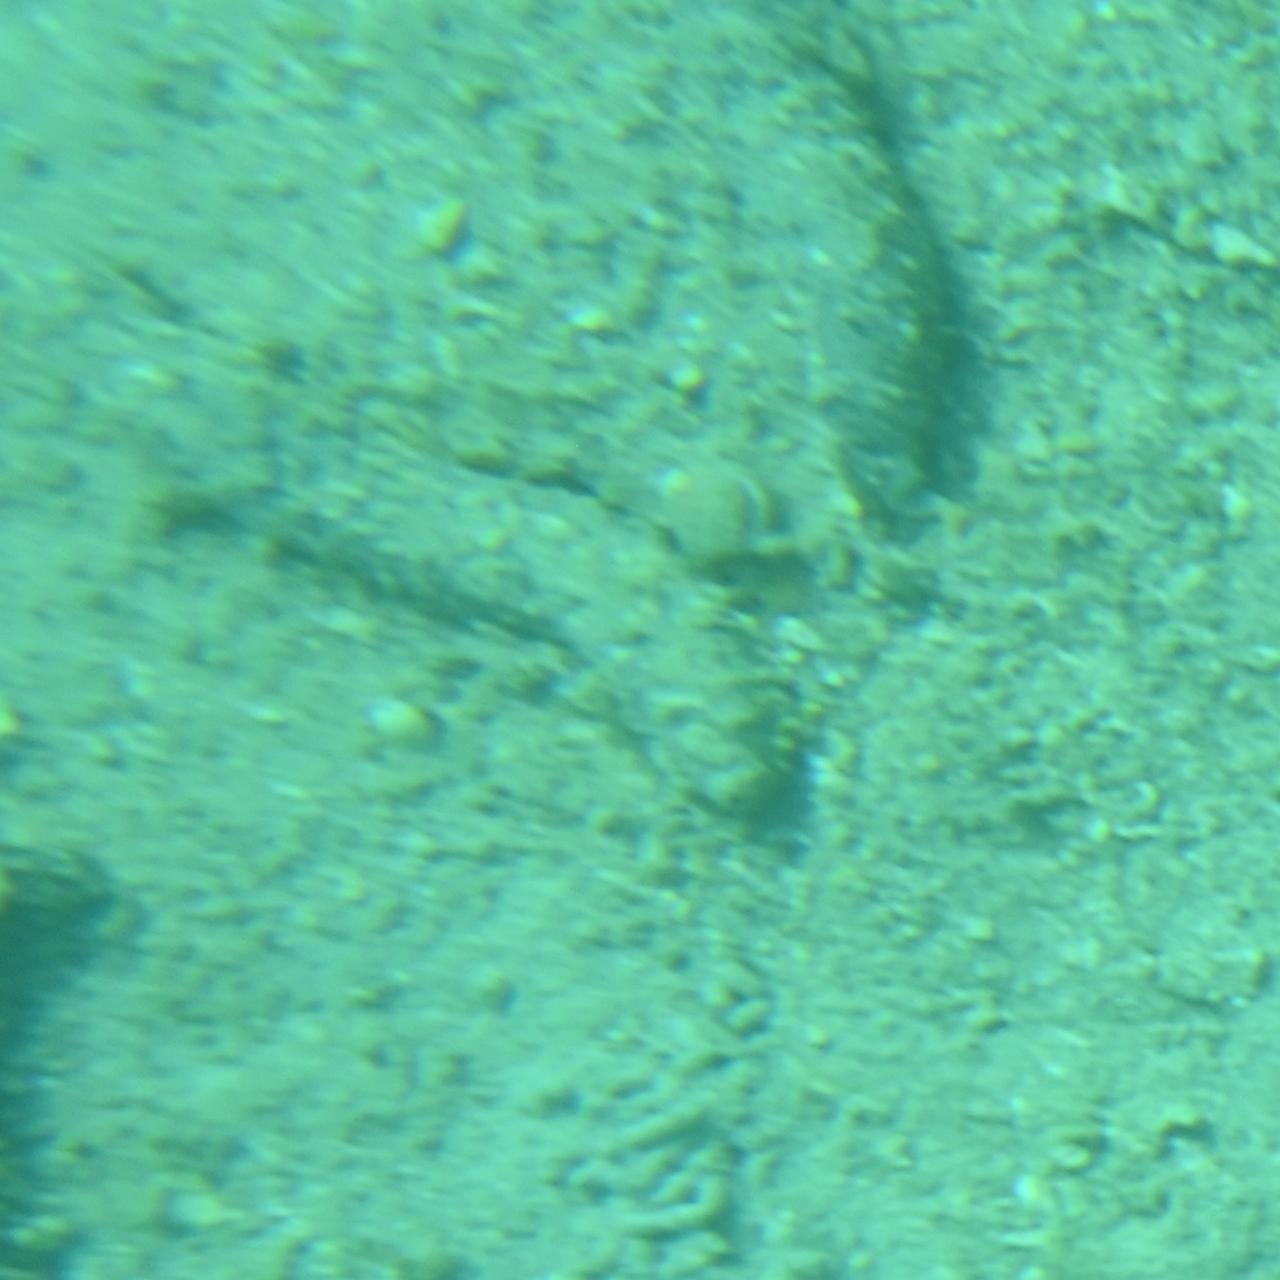Holothuria tubulosa: (49, 261, 838, 852), (447, 0, 989, 551), (0, 852, 150, 1280)
